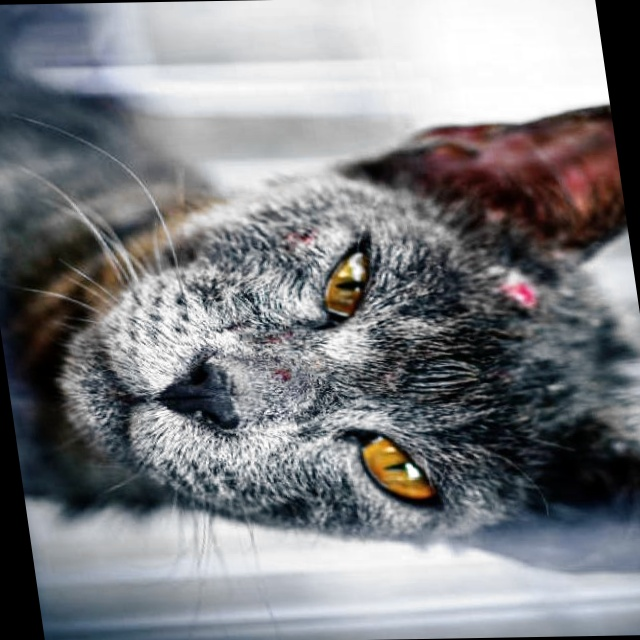ringworm: (260, 332, 301, 386), (506, 281, 535, 312), (283, 234, 318, 249)
